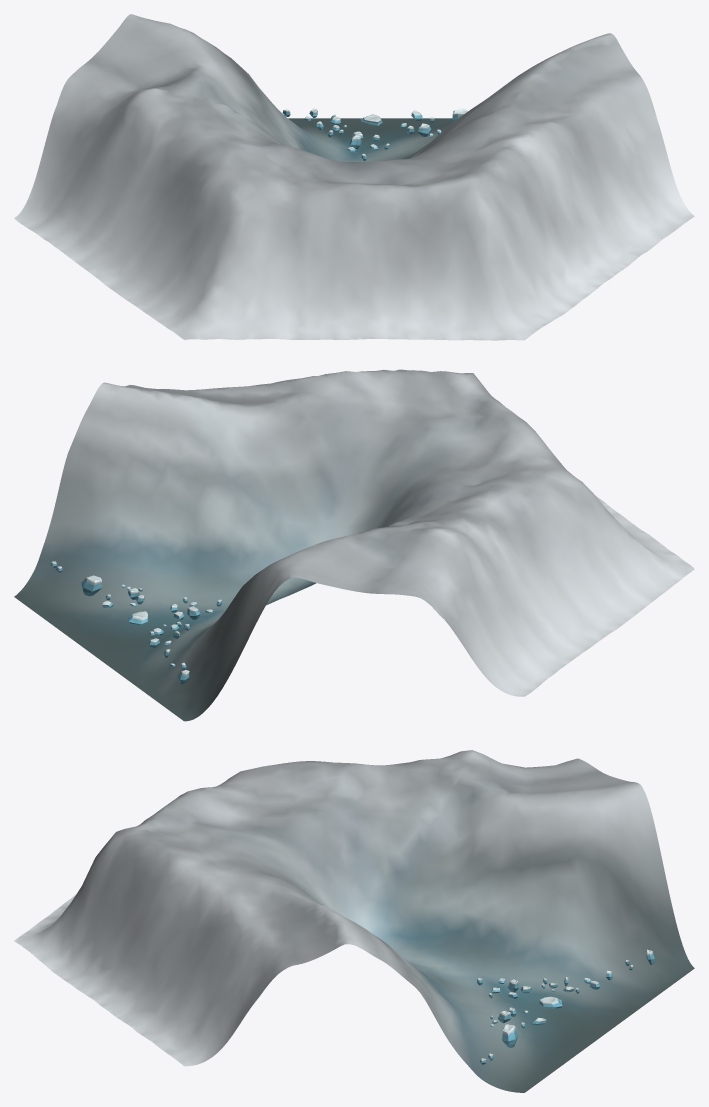
File: costa_+05_-10.glb
The picture shows the model from 3 angles, top to bottom: view 1: azimuth 30°, elevation 25°; view 2: azimuth 150°, elevation 25°; view 3: azimuth 270°, elevation 25°; orthographic projection.
Parts seen in each view (by area): view 1: terrain, Formações costeiras; view 2: terrain, Formações costeiras; view 3: terrain, Formações costeiras.
Part boxes in pixels (x1,y1,x2,y2): terrain: (14, 14, 694, 340); Formações costeiras: (282, 108, 468, 160); terrain: (14, 369, 694, 721); Formações costeiras: (51, 561, 221, 684); terrain: (14, 750, 694, 1092); Formações costeiras: (477, 949, 654, 1064).
Size of the model in its own units: 4330 by 1207 by 5000.
1 material, 1 textured.
